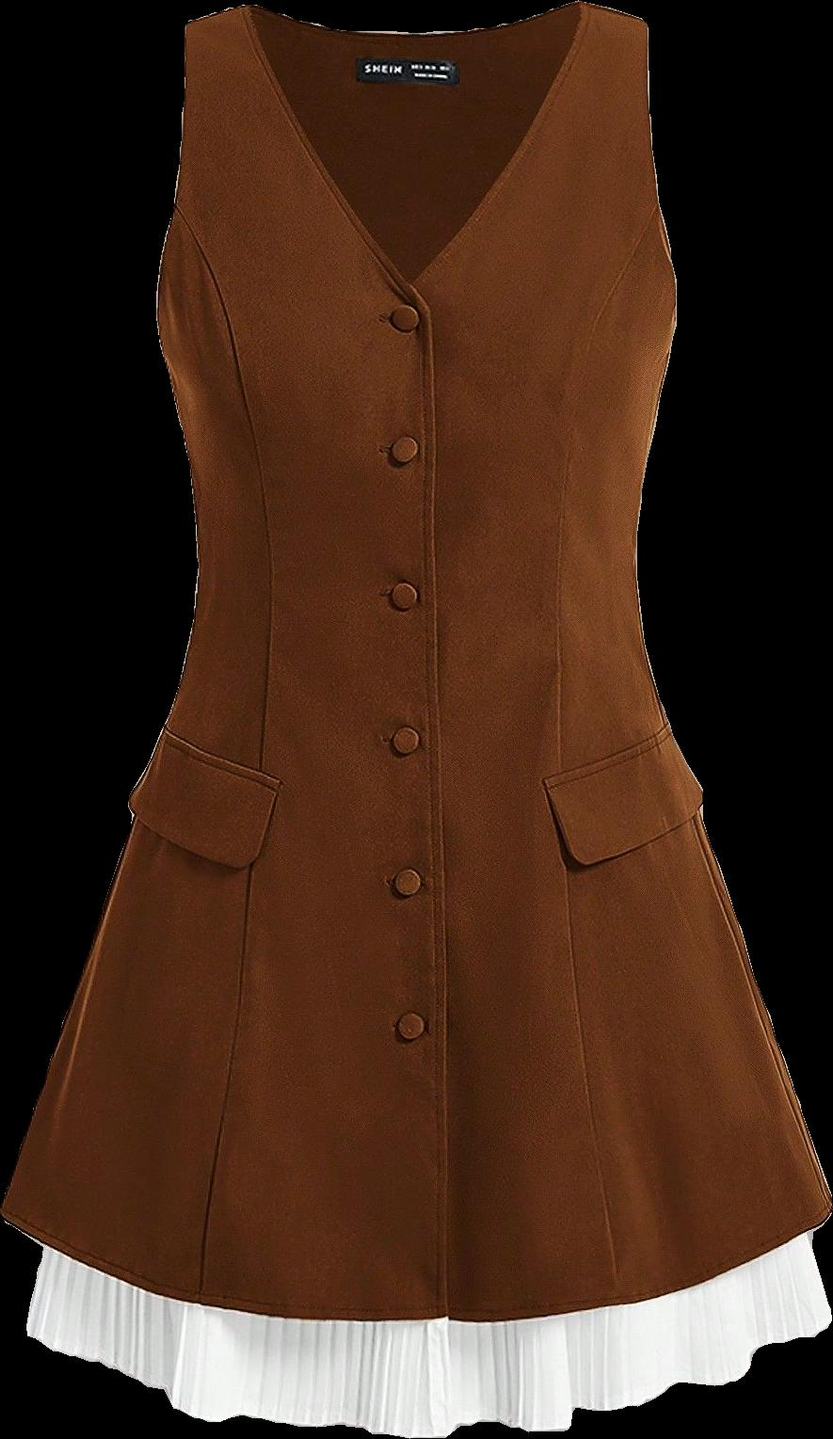Bodice: (155, 1, 677, 611)
Hemline: (0, 1196, 832, 1329), (19, 1310, 832, 1438)
Neckline: (242, 0, 592, 299)
Skirt: (1, 616, 831, 1436)
